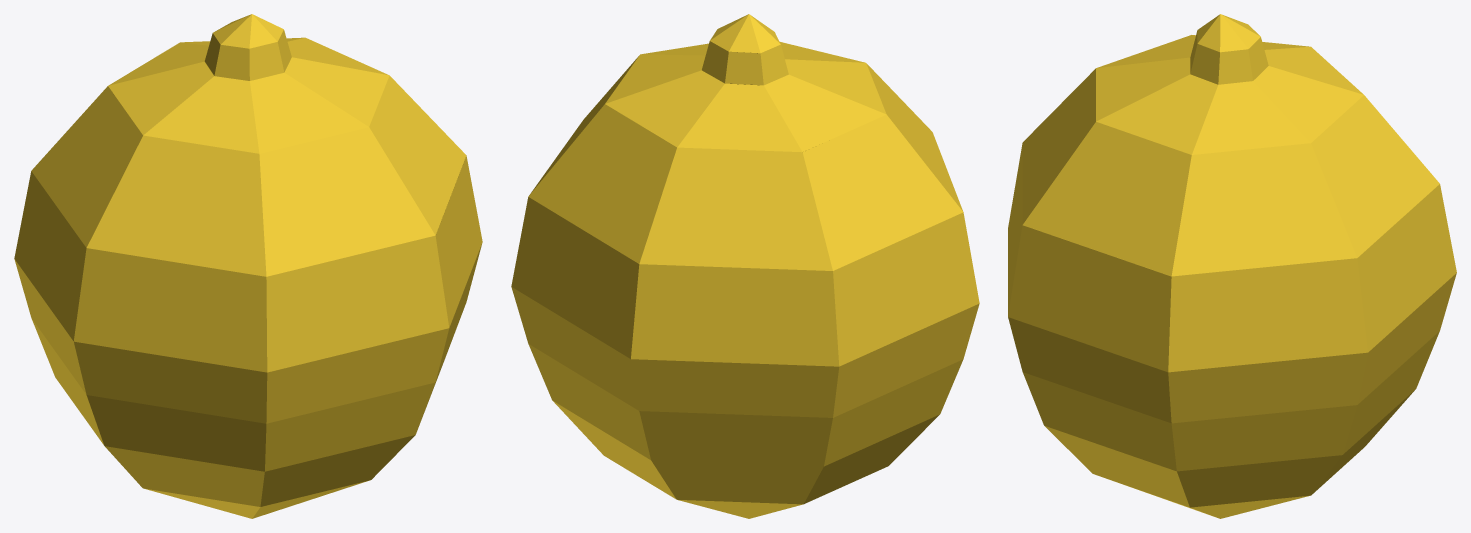
Rendered from lemon-optimized.glb.
The picture shows the model from 3 angles, left to right: view 1: azimuth 30°, elevation 25°; view 2: azimuth 150°, elevation 25°; view 3: azimuth 270°, elevation 25°; orthographic projection.
Parts seen in each view (by area): view 1: sphere; view 2: sphere; view 3: sphere.
Part boxes in pixels (<box>): sphere: <box>14,14,482,518</box>; sphere: <box>511,14,979,518</box>; sphere: <box>1008,14,1456,518</box>.
Size of the model in its own units: 0.5509 by 0.65 by 0.5237.
Materials: 1 (1 with a texture image).
